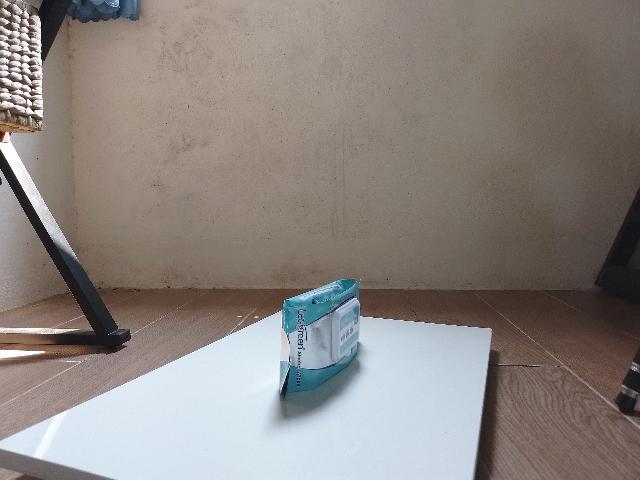Let-green_alcohol_wipes: (279, 279, 360, 397)
